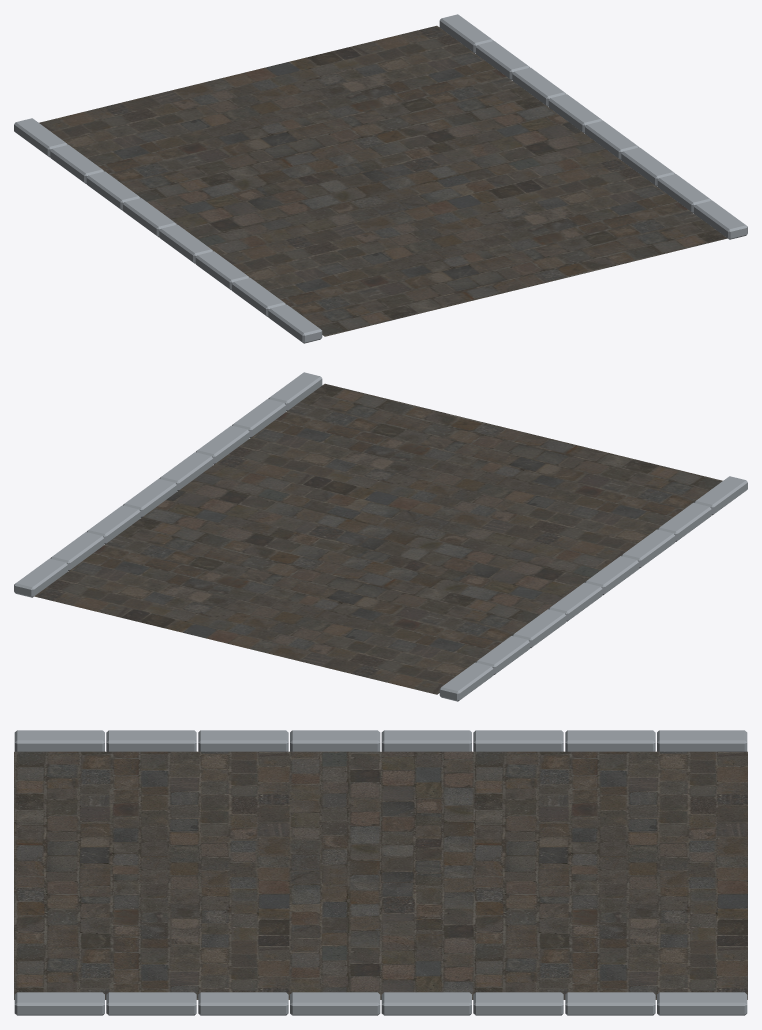
Rendered from road-natural.glb.
The picture shows the model from 3 angles, top to bottom: view 1: azimuth 30°, elevation 25°; view 2: azimuth 150°, elevation 25°; view 3: azimuth 270°, elevation 25°; orthographic projection. The views are drawn at different scales.
Parts seen in each view (by area): view 1: road-natural; view 2: road-natural; view 3: road-natural.
Part boxes in pixels (box(x1,y1,x2,y2)): road-natural: box(14, 14, 747, 343); road-natural: box(14, 372, 747, 701); road-natural: box(14, 730, 747, 1015).
Size of the model in its own units: 3.54 by 0.08 by 4.
Materials: 2 (1 with a texture image).
